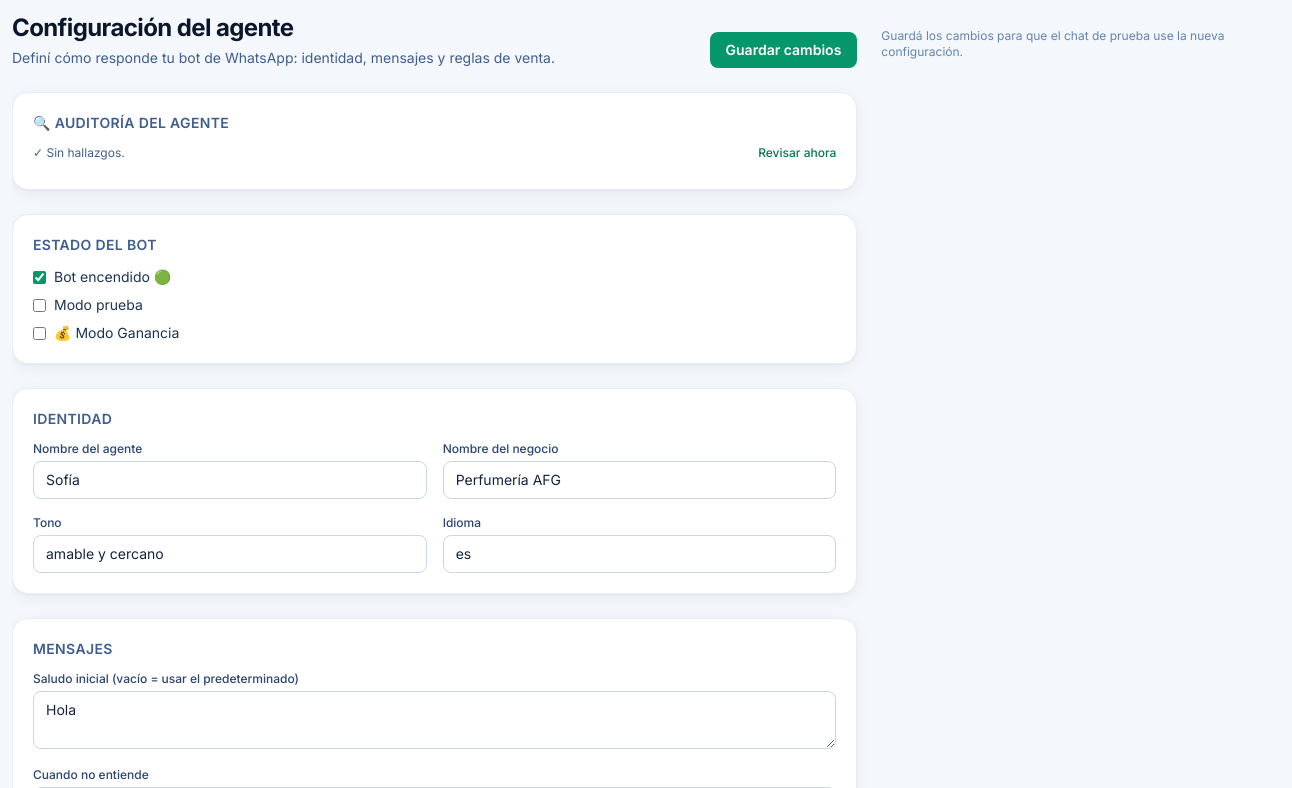
Scenario: H-03 · guardar la configuración del agente dice qué pasó › NO REGRESIÓN: si guarda bien, sigue diciendo «✓ Guardado» y no muestra error
Expected: the field showing "Sofía" below "Nombre del agente" is shown, [33,461,427,499]
What coordinates should you click on to do the following:
click the button "Guardar cambios"
I would click on:
 (784, 50)
Its box is [710,32,857,68].
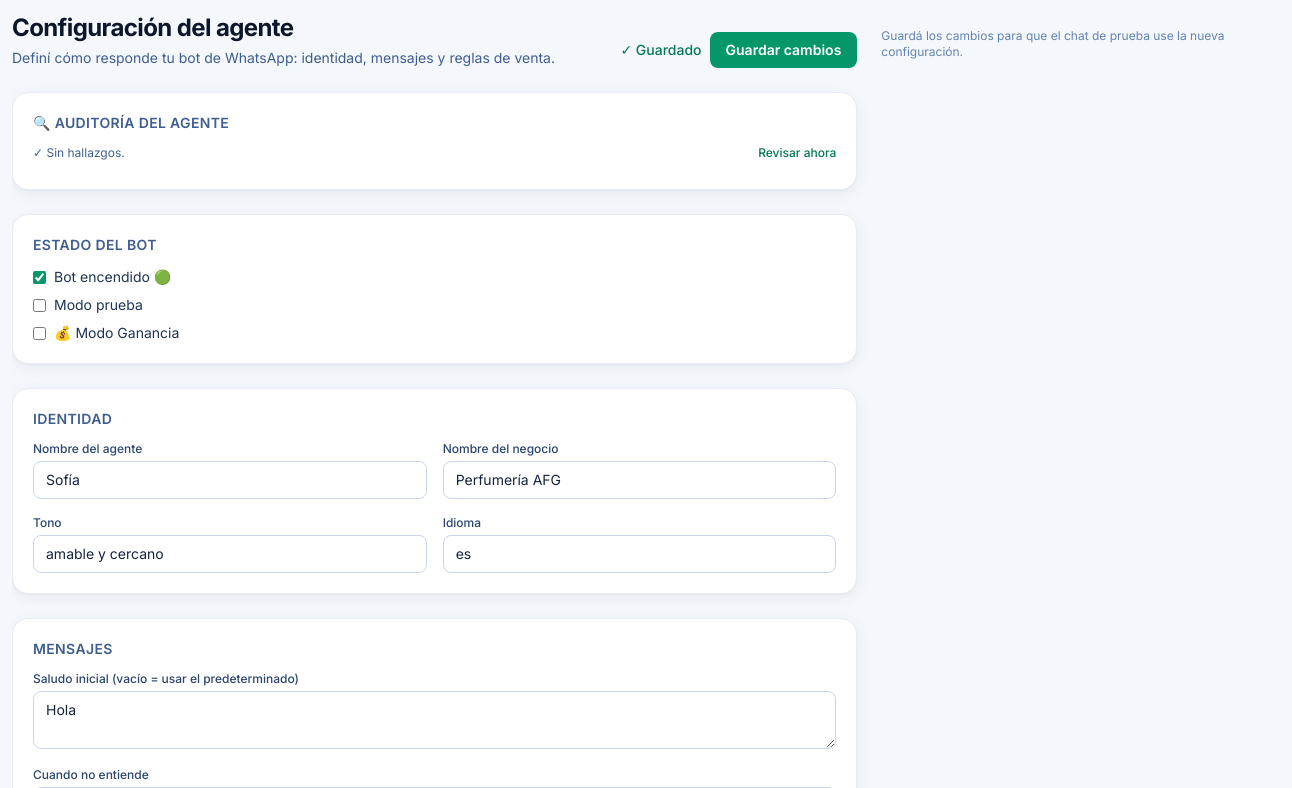
Expected: the text "✓ Guardado" is shown, [620,40,702,60]
